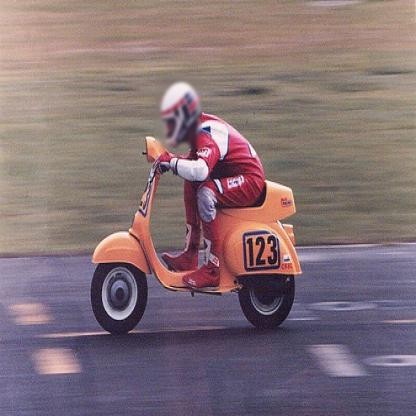Helmet: (158, 81, 204, 147)
